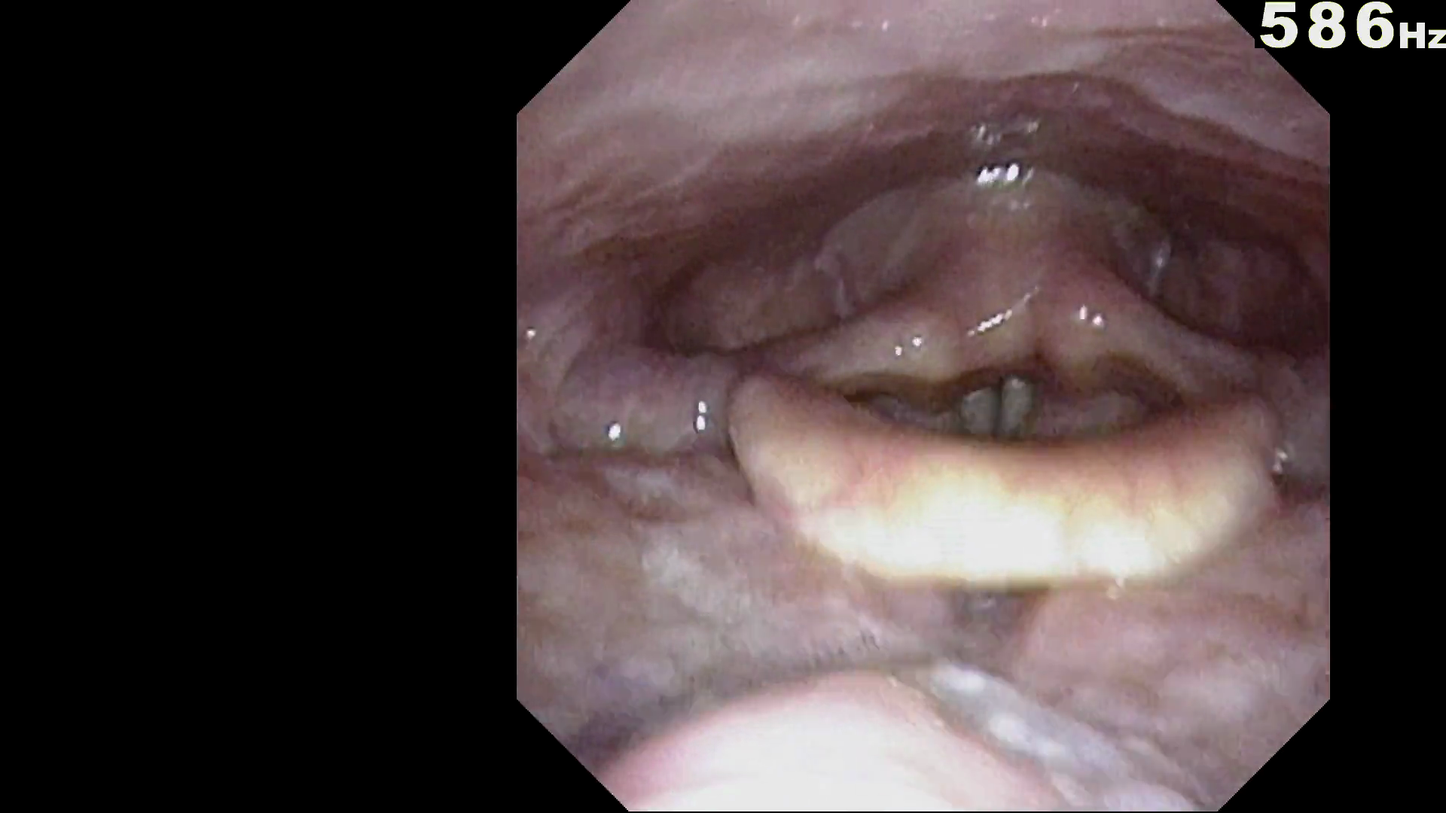epiglottis: (757, 307, 1204, 455)
